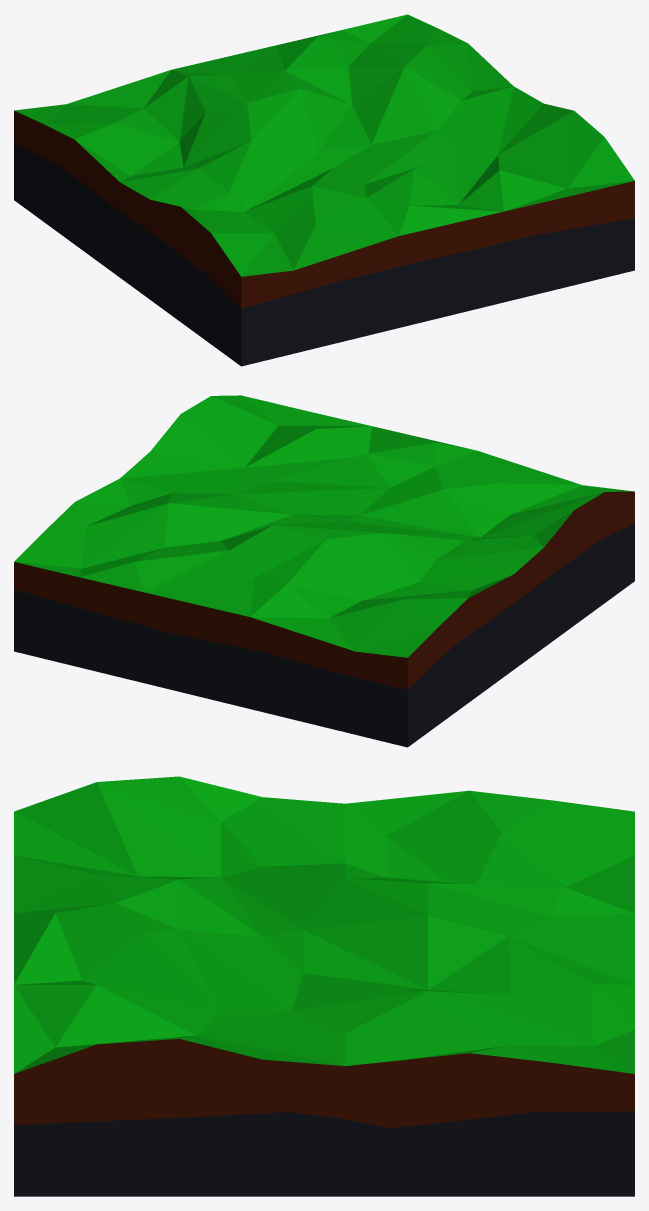
The model's file is PRO_Ground_01.FBX.
3 renders of one model, top to bottom at view 1: azimuth 30°, elevation 25°; view 2: azimuth 150°, elevation 25°; view 3: azimuth 270°, elevation 25°, orthographic. The views are drawn at different scales.
Parts seen in each view (by area): view 1: PRO_Ground_01; view 2: PRO_Ground_01; view 3: PRO_Ground_01.
Part boxes in pixels (box(x1,y1,x2,y2)): PRO_Ground_01: box(14, 14, 634, 366); PRO_Ground_01: box(14, 395, 634, 747); PRO_Ground_01: box(14, 776, 634, 1196).
Size of the model in its own units: 128 by 36.01 by 128.
